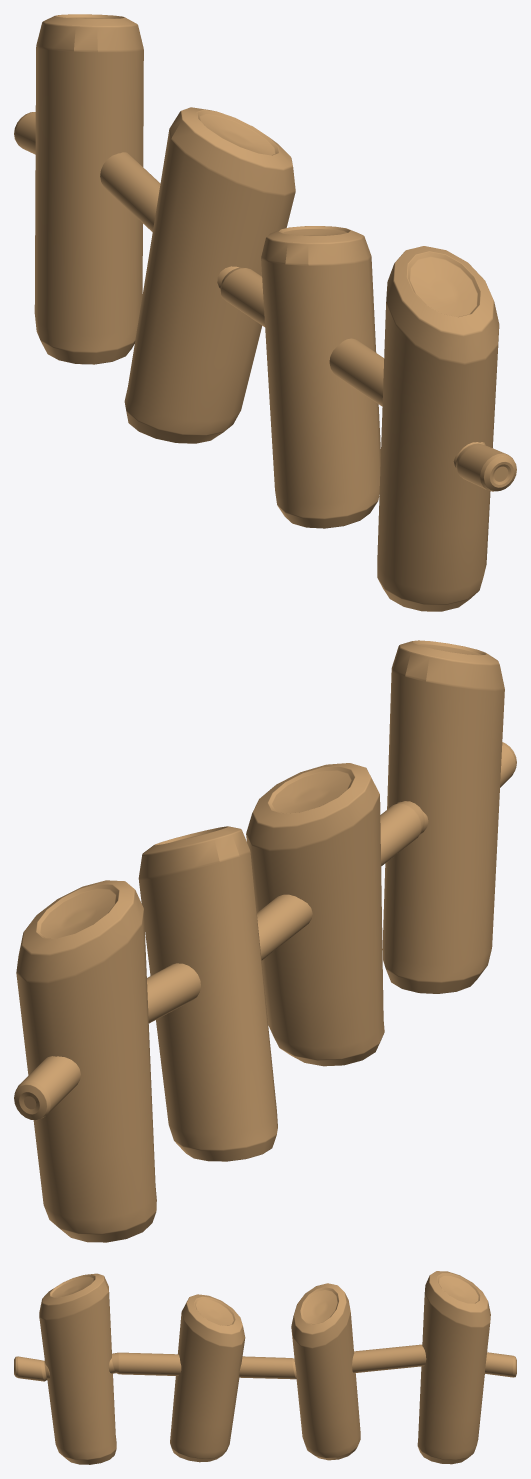
Rendered from Barrière_01.fbx.
3 renders of one model, top to bottom at view 1: azimuth 30°, elevation 25°; view 2: azimuth 150°, elevation 25°; view 3: azimuth 270°, elevation 25°, orthographic. The views are drawn at different scales.
Visible parts, largest first — view 1: Barriere_01; view 2: Barriere_01; view 3: Barriere_01.
Part boxes in pixels (x1,y1,x2,y2): Barriere_01: (14,14,516,611); Barriere_01: (14,640,516,1242); Barriere_01: (14,1271,516,1464).
Size of the model in its own units: 51.02 by 116 by 294.
